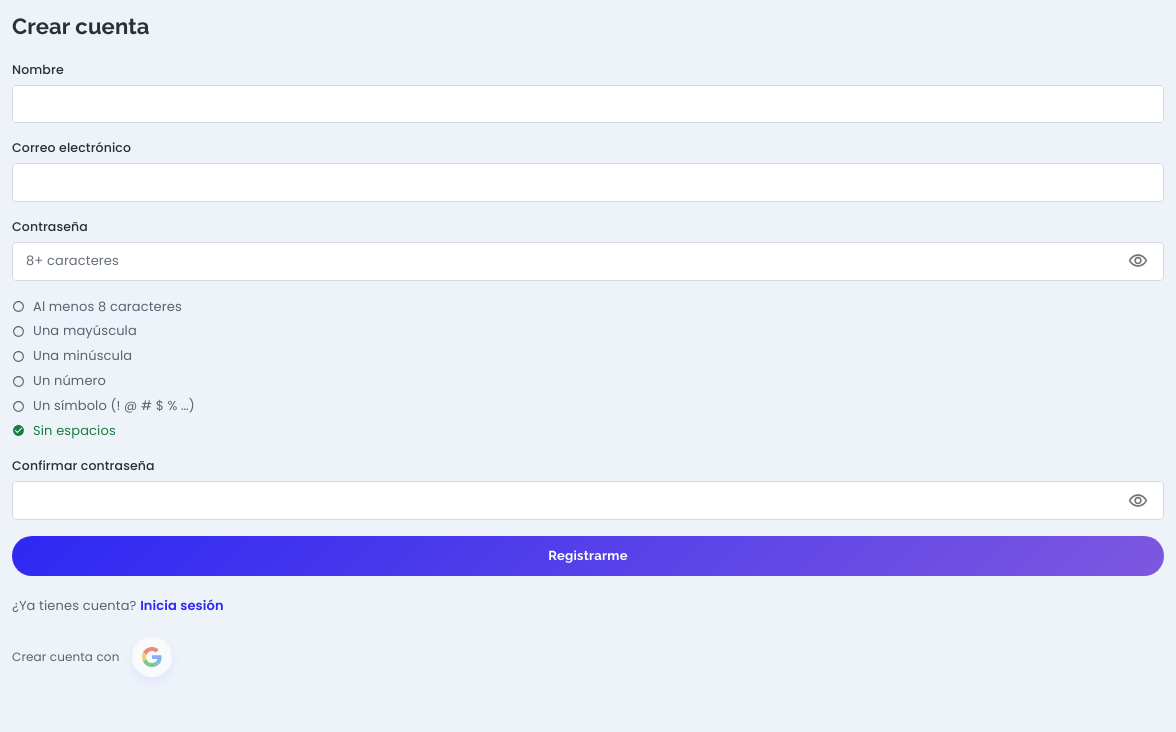
it: registro: validación de entradas › pide el símbolo cuando solo faltaba ese requisito
Type "Ana" into the field labelled "Nombre" at coordinates (588, 104), box top-left (12, 85), bottom-right (1164, 123)
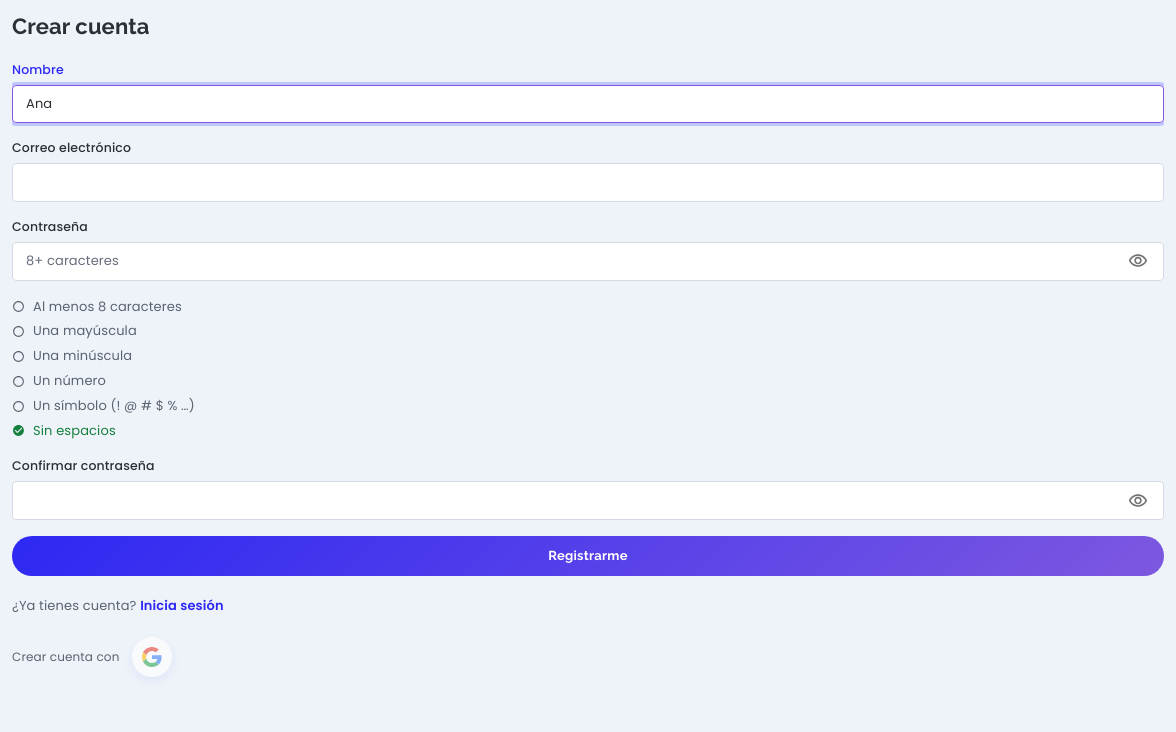
Type "ana@example.com" into the field labelled "Correo electrónico" at coordinates (588, 183), box top-left (12, 163), bottom-right (1164, 202)
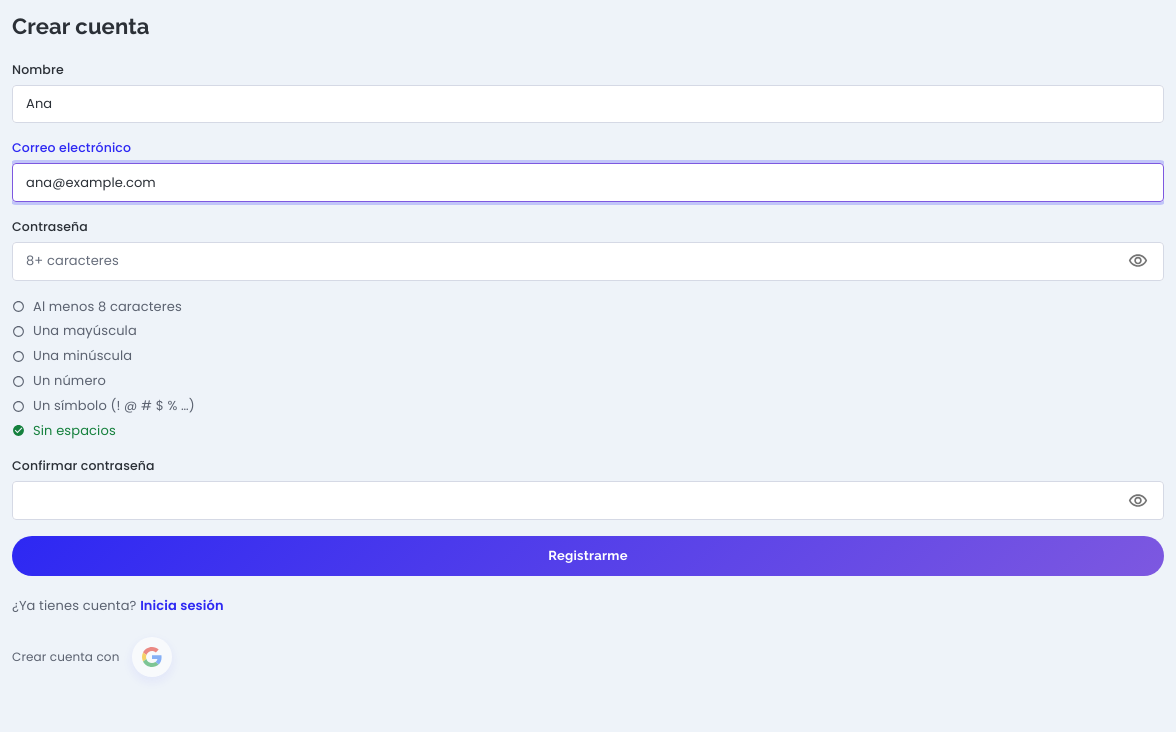
Type "Segura12345" into the password field labelled "Contraseña" at coordinates (564, 261), box top-left (12, 242), bottom-right (1115, 281)
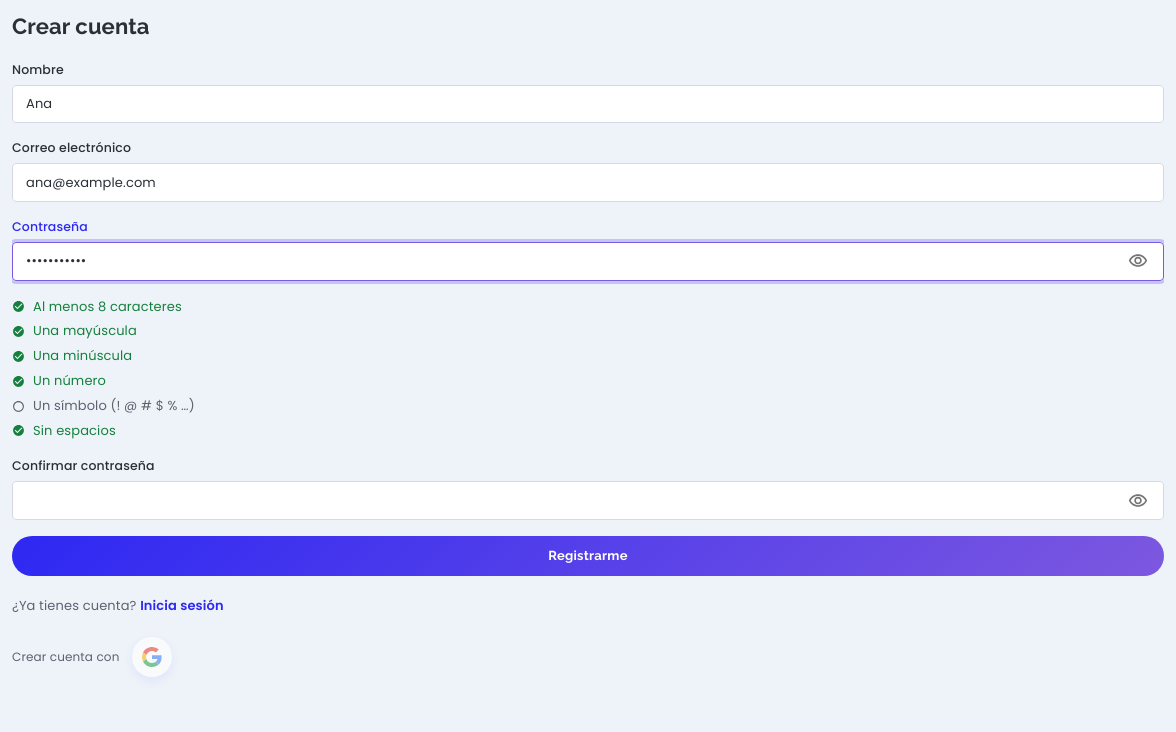
Type "Segura12345" into the password field labelled "Confirmar contraseña" at coordinates (564, 501), box top-left (12, 481), bottom-right (1115, 520)
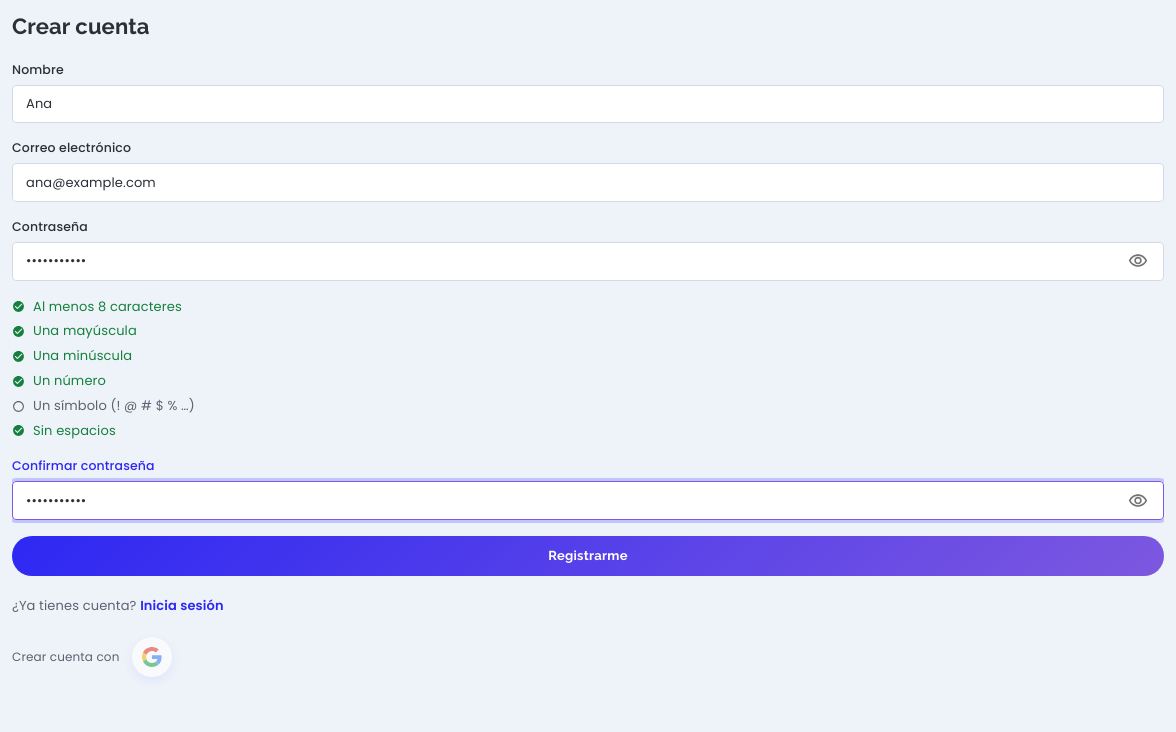
Click the button "Registrarme" at coordinates (588, 556), box top-left (12, 536), bottom-right (1164, 576)
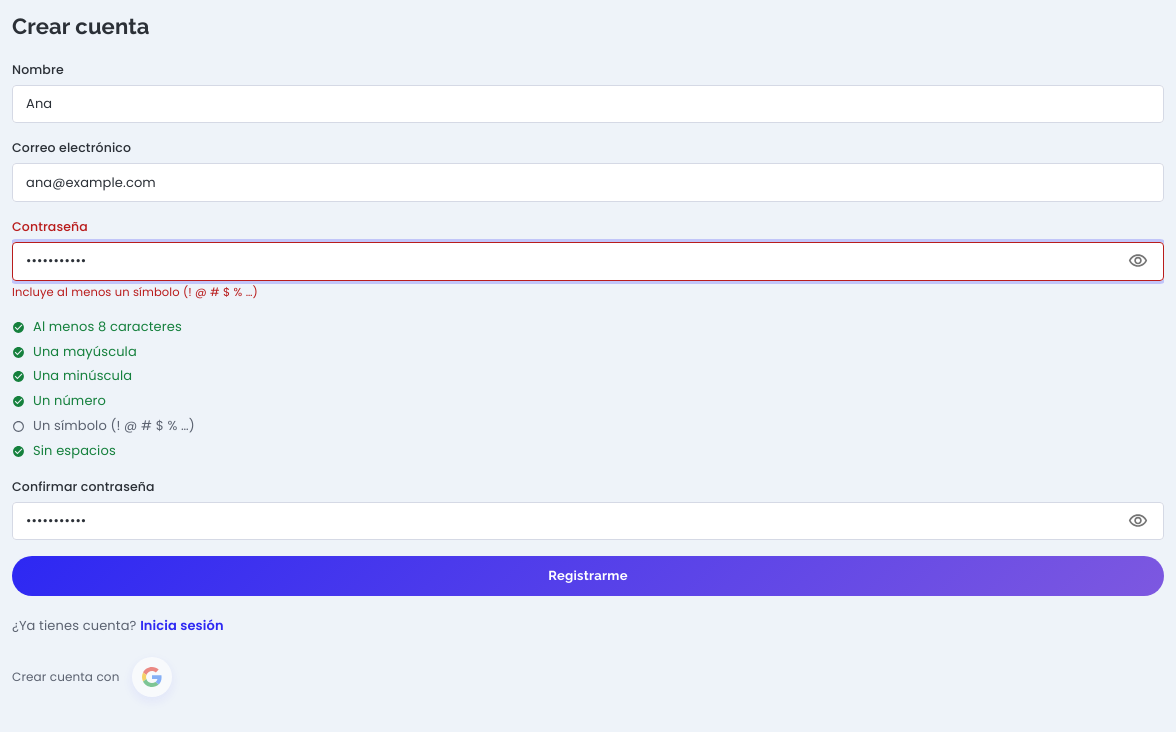
Check: the text "Incluye al menos un símbolo (! @ # $ % …)" is shown, box top-left (12, 284), bottom-right (258, 300)
